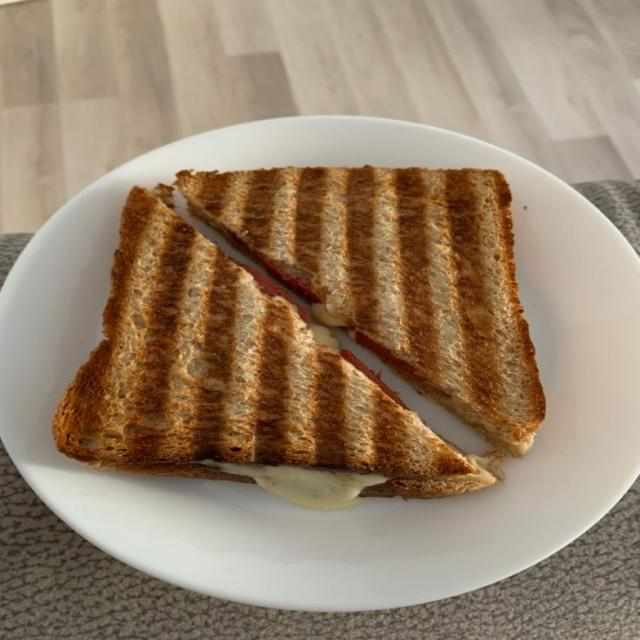toast bread: (52, 187, 496, 506), (177, 164, 545, 456), (187, 358, 208, 376), (0, 0, 26, 5)
